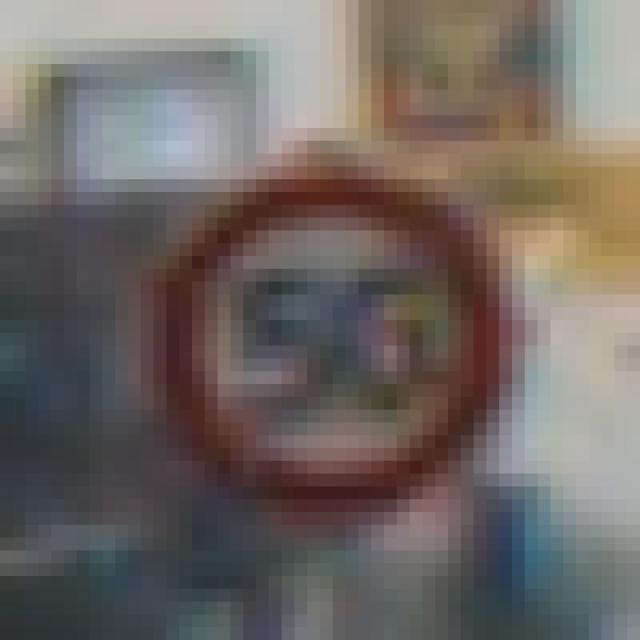Limite-50: (132, 151, 538, 534)
